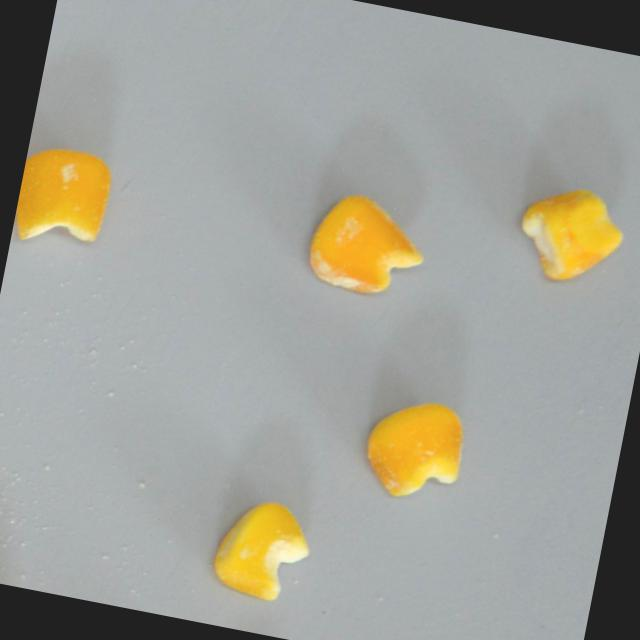no_canjicado: (358, 389, 472, 508)
pelicula: (302, 187, 434, 305), (512, 178, 631, 290), (209, 492, 320, 607), (10, 140, 116, 254)
